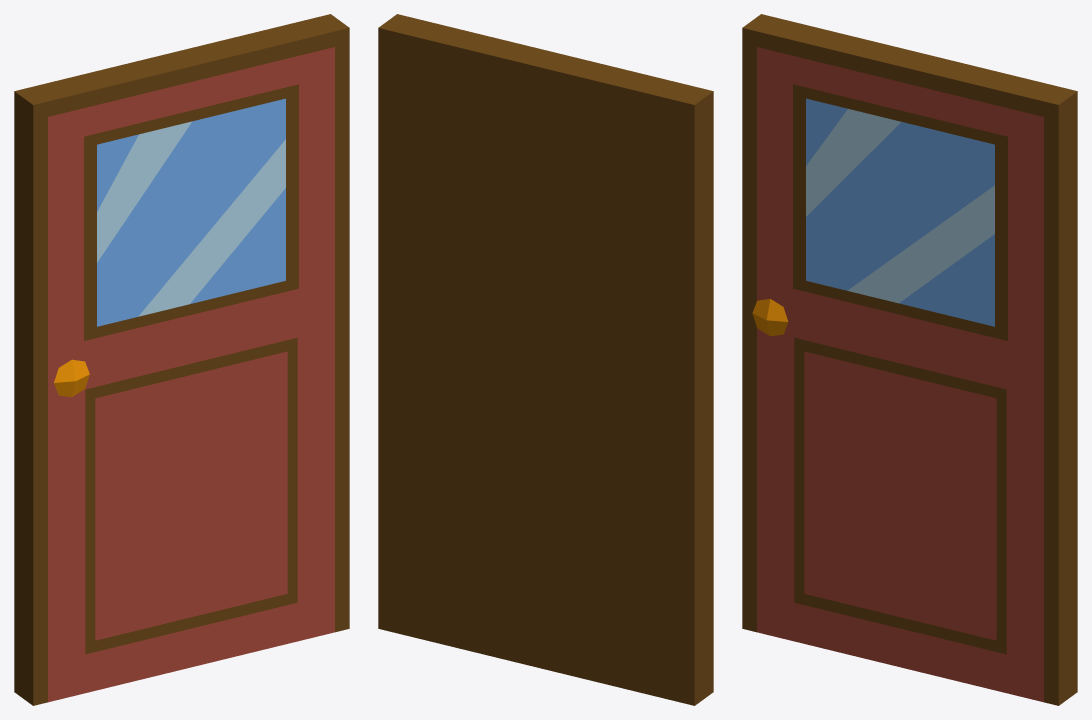
File: Hall Doors.fbx
3 renders of one model, left to right at view 1: azimuth 30°, elevation 25°; view 2: azimuth 150°, elevation 25°; view 3: azimuth 330°, elevation 25°, orthographic.
Parts seen in each view (by area): view 1: Hall Door; view 2: Hall Door; view 3: Hall Door.
Part boxes in pixels (x1,y1,x2,y2): Hall Door: (14, 14, 349, 705); Hall Door: (378, 14, 713, 705); Hall Door: (742, 14, 1077, 705).
Bounding box in the file's own units: 117 × 211 × 17.85.
